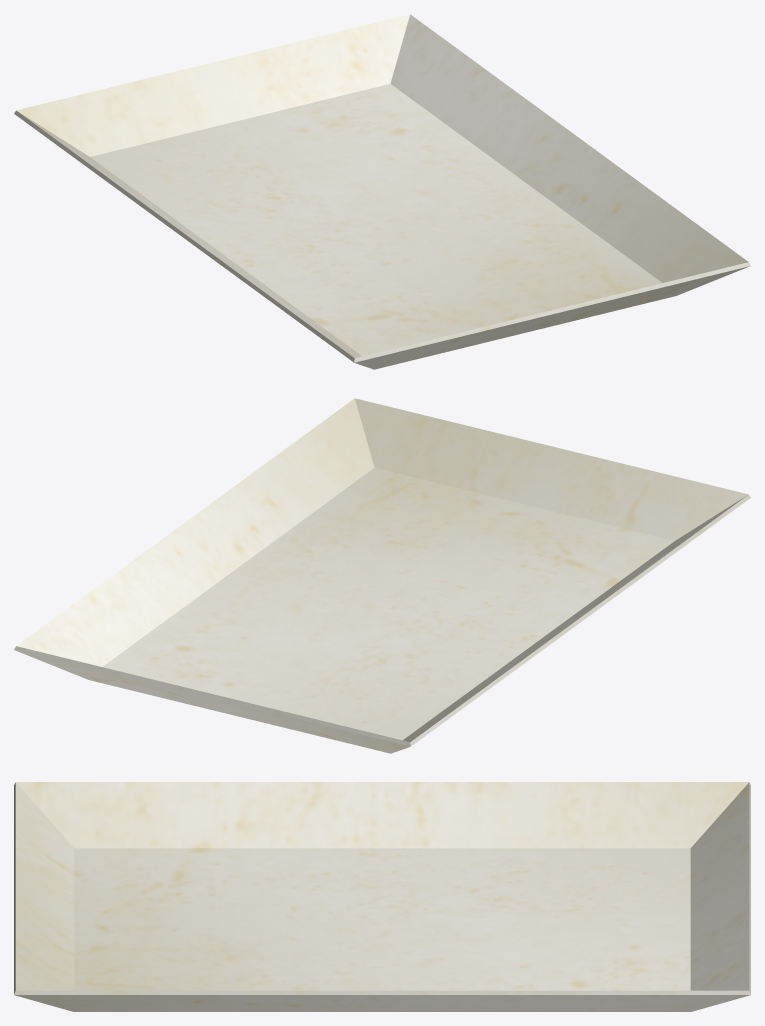
File: Prop_pallete12a.fbx
The picture shows the model from 3 angles, top to bottom: view 1: azimuth 30°, elevation 25°; view 2: azimuth 150°, elevation 25°; view 3: azimuth 270°, elevation 25°; orthographic projection. The views are drawn at different scales.
Visible parts, largest first — view 1: Prop_pallete12a; view 2: Prop_pallete12a; view 3: Prop_pallete12a.
Part boxes in pixels (x1,y1,x2,y2): Prop_pallete12a: (14,14,750,369); Prop_pallete12a: (14,398,750,753); Prop_pallete12a: (14,782,750,1011).
Size of the model in its own units: 0.3668 by 0.0372 by 0.5446.
